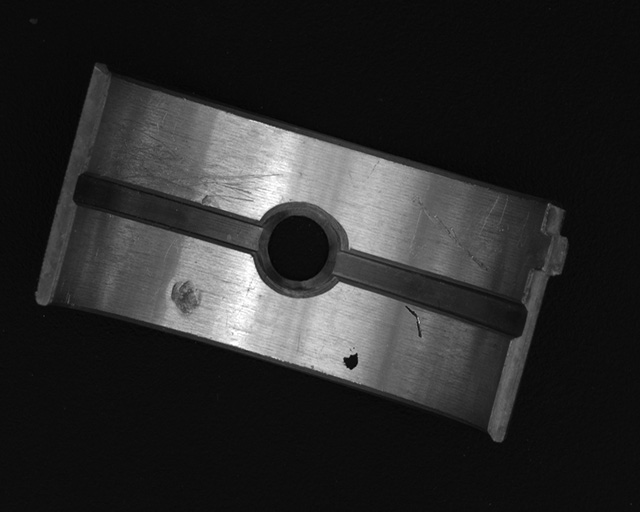blot: (342, 346, 359, 371)
bruise: (170, 278, 204, 317)
gap: (335, 251, 525, 339), (74, 174, 267, 253)
hole: (257, 204, 341, 293)
nick: (411, 194, 492, 274), (405, 304, 423, 340)
scratch: (87, 116, 287, 210)
